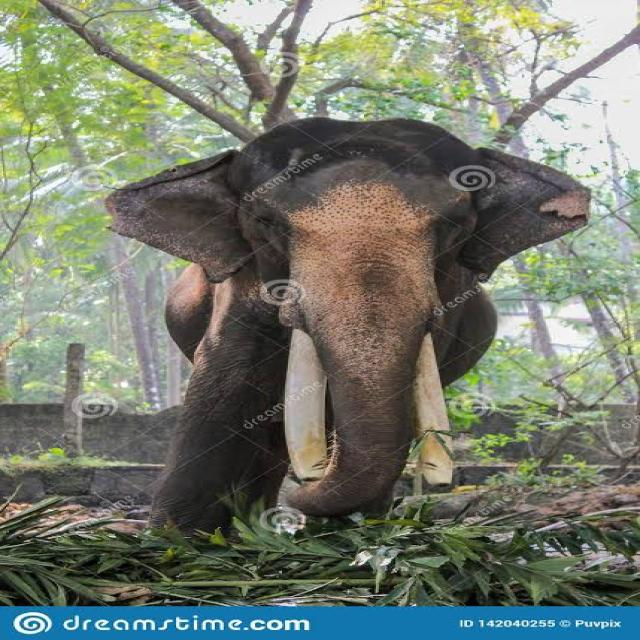Elephant: (103, 116, 591, 540)
